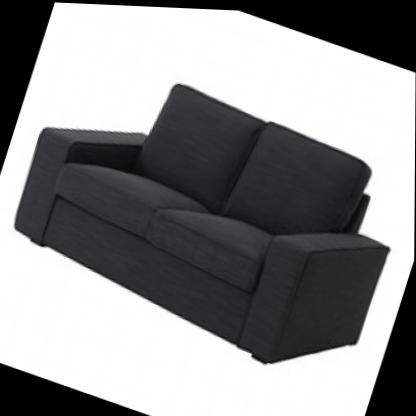Sofa: (0, 13, 416, 408)
